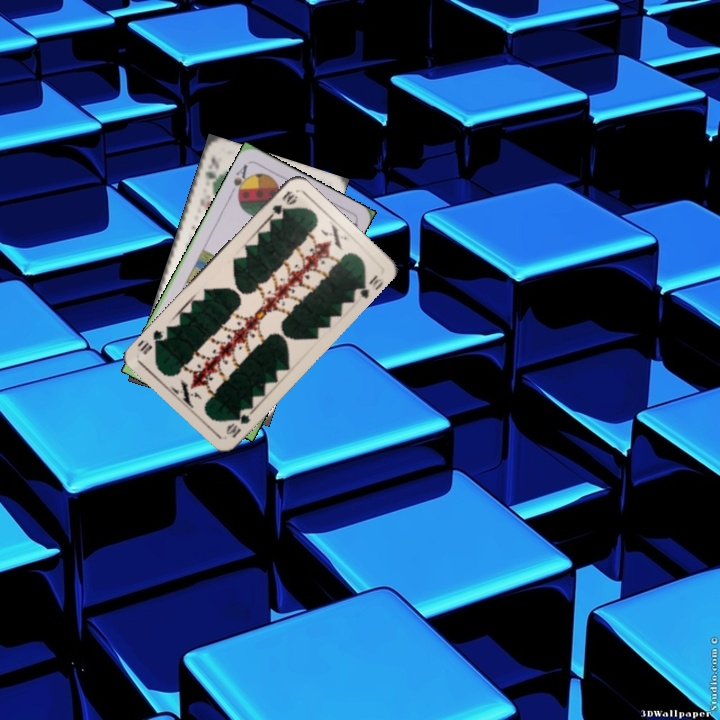G10: (222, 404, 256, 441), (266, 187, 299, 223)
GK: (200, 153, 221, 192)
SA: (229, 160, 253, 200)
